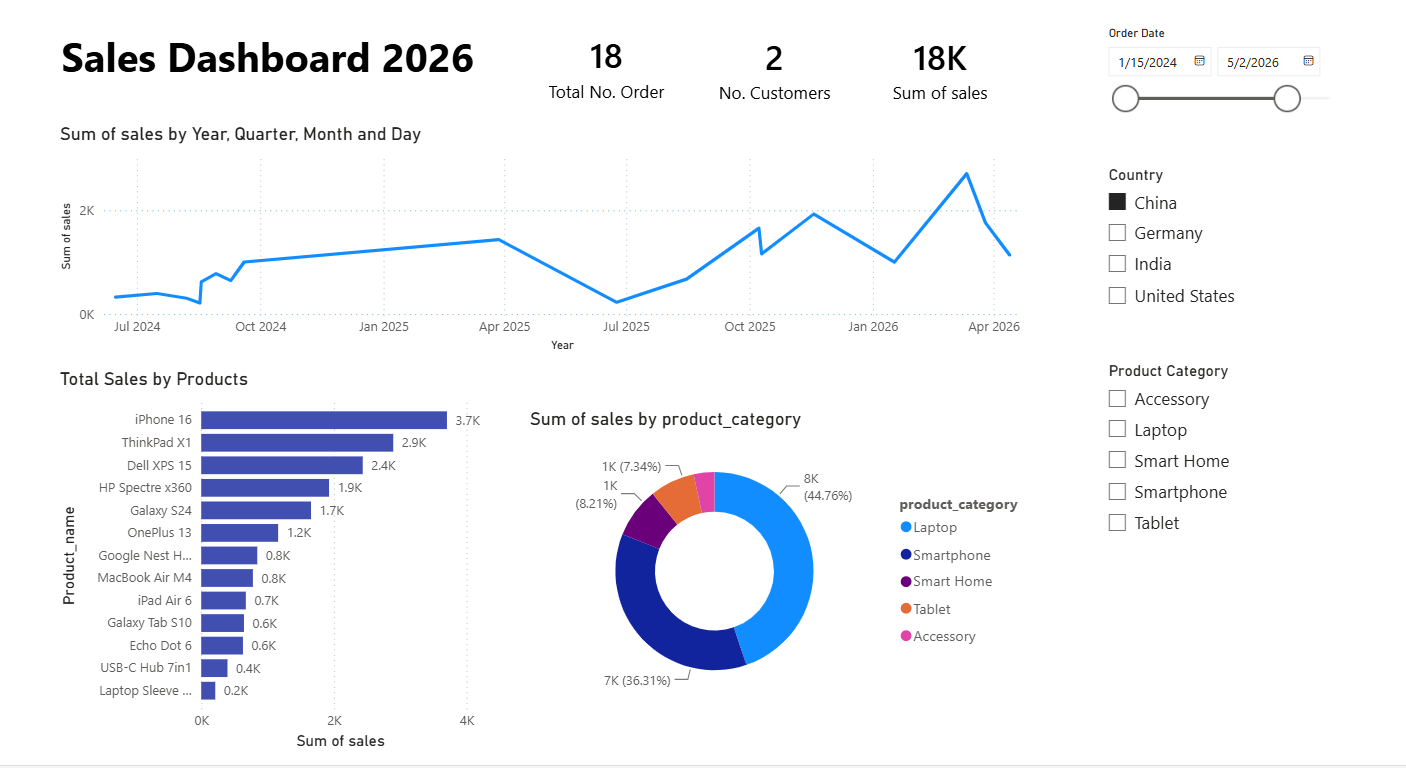

This screenshot's page, from the dashboard's own definition file:
{"tool":"powerbi","page":{"name":"Sales 2026","canvas":[1280,720],"ordinal":0},"visuals":[{"type":"barChart","title":"Total Sales by Products","fields":{"Category":["orders.product_name"],"Y":["Sum(orders.sales)"]},"box":[68.6,349.9,408.9,360.9],"z":0},{"type":"donutChart","fields":{"Category":["orders.product_category"],"Y":["Sum(orders.sales)"]},"box":[506.9,386.7,480.3,285.4],"z":1000},{"type":"cardVisual","fields":{"Data":["CountNonNull(orders.order_id)"]},"box":[505,17.8,157.8,102.9],"z":2000},{"type":"cardVisual","fields":{"Data":["Count(orders.customer_id)"]},"box":[662.5,15.9,156.4,107],"z":3000},{"type":"cardVisual","fields":{"Data":["Sum(orders.sales)"]},"box":[819.2,16.5,150.9,107],"z":4000},{"type":"lineChart","fields":{"Y":["Sum(orders.sales)"],"Category":["orders.OrderDate.Variation.Date Hierarchy.Year","orders.OrderDate.Variation.Date Hierarchy.Quarter","orders.OrderDate.Variation.Date Hierarchy.Month","orders.OrderDate.Variation.Date Hierarchy.Day"]},"box":[68.6,120.8,920.8,218.2],"z":5000},{"type":"slicer","fields":{"Values":["customers.country"]},"box":[1038.8,156.4,241.5,148.2],"z":6000},{"type":"slicer","fields":{"Values":["orders.product_category"]},"box":[1038.8,338.9,241.5,215.4],"z":7000},{"type":"slicer","fields":{"Values":["orders.OrderDate"]},"box":[1038.8,26.1,241.5,97.4],"z":8000},{"type":"textbox","box":[70,28.8,407.5,65.9],"z":9000}]}

Visuals, with their boxes in screenshot pixels (x1, y1, x2, y2), scaled from the page's 1280x720 canvas onto the 1406x768 screenshot:
"Total Sales by Products" barChart: (75,373,525,758)
donutChart - orders.product_category x Sum(orders.sales): (557,412,1084,717)
cardVisual - CountNonNull(orders.order_id): (555,19,728,129)
cardVisual - Count(orders.customer_id): (728,17,900,131)
cardVisual - Sum(orders.sales): (900,18,1066,132)
lineChart - Sum(orders.sales) x orders.OrderDate.Variation.Date Hierarchy.Year: (75,129,1087,362)
slicer - customers.country: (1141,167,1405,325)
slicer - orders.product_category: (1141,361,1405,591)
slicer - orders.OrderDate: (1141,28,1405,132)
textbox: (77,31,525,101)
